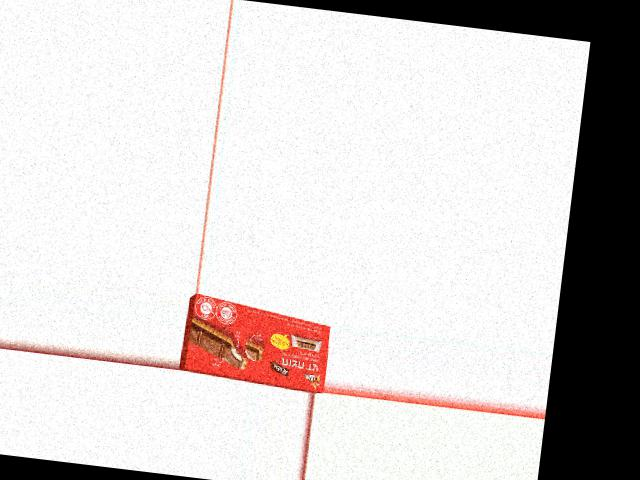chocolate: (180, 301, 333, 388)
